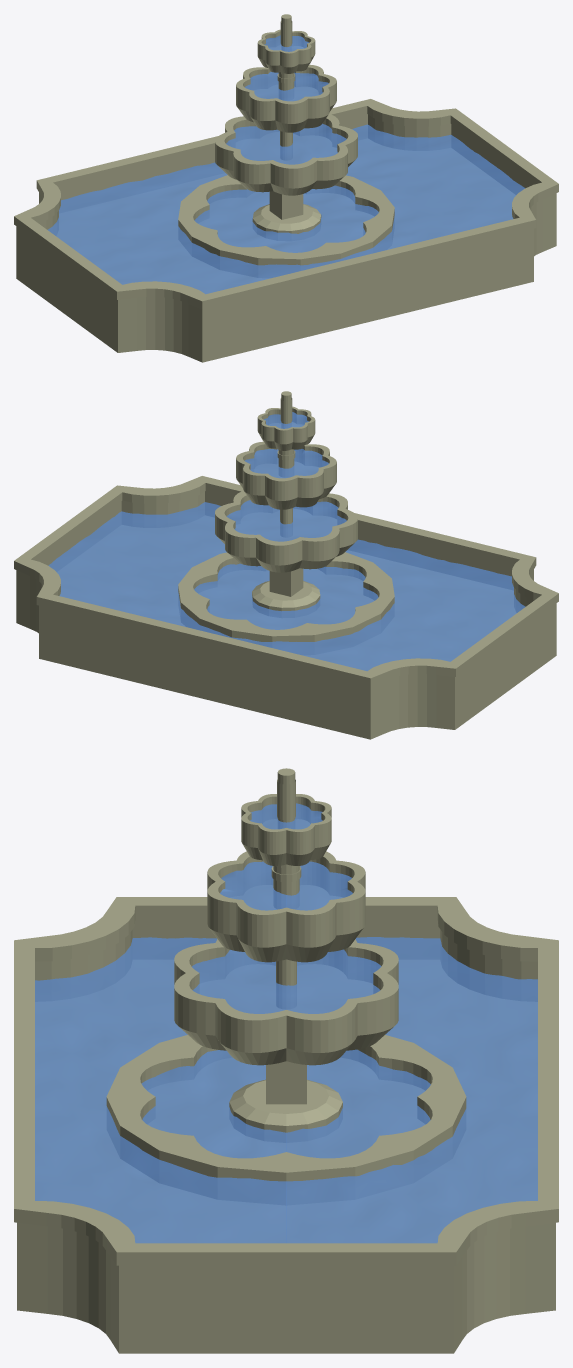
Rendered from fountain.glb.
3 renders of one model, top to bottom at view 1: azimuth 30°, elevation 25°; view 2: azimuth 150°, elevation 25°; view 3: azimuth 270°, elevation 25°, orthographic. The views are drawn at different scales.
Parts seen in each view (by area): view 1: Flowers_1, Water_0, Cylinders_2; view 2: Flowers_1, Water_0, Cylinders_2; view 3: Flowers_1, Water_0, Cylinders_2.
Boxes of the visible parts, box(x1,y1,x2,y2) form: Flowers_1: box(14, 29, 558, 362); Water_0: box(48, 35, 525, 294); Cylinders_2: box(178, 14, 394, 277); Flowers_1: box(14, 406, 558, 739); Water_0: box(48, 412, 525, 671); Cylinders_2: box(178, 391, 394, 654); Flowers_1: box(14, 794, 558, 1353); Water_0: box(35, 803, 537, 1243); Cylinders_2: box(106, 768, 466, 1205).
Bounding box in the file's own units: 8.36 × 4.45 × 5.42.
